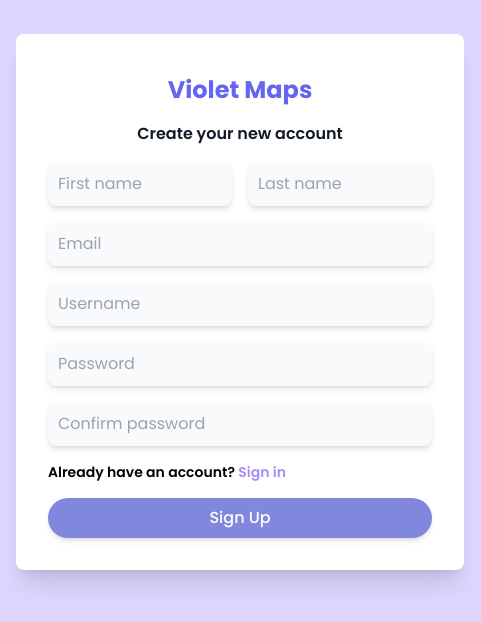
Test: register tests › improper password input - password less than 8 chars
In the field with id "firstName": x=140, y=184 left=48, top=162, right=232, bottom=206, type "Joe"
In the field with id "lastName": x=340, y=184 left=248, top=162, right=432, bottom=206, type "Shmoe"
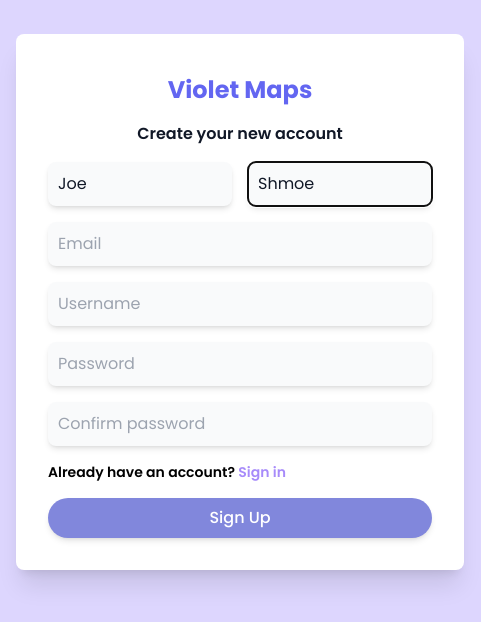
In the field with id "email": x=240, y=244 left=48, top=222, right=432, bottom=266, type "Joe.Shmoe1@email.com"
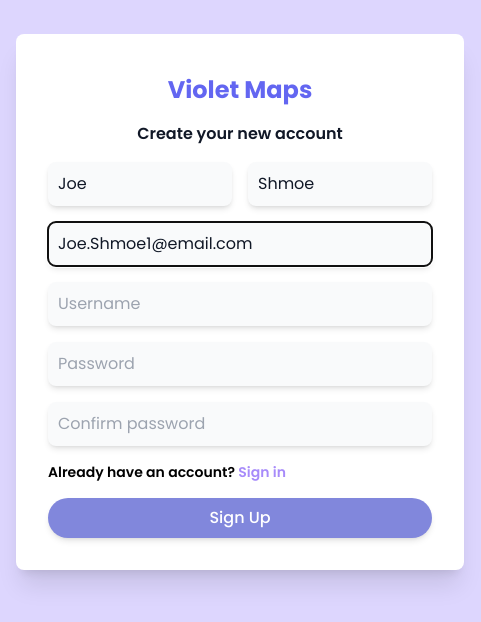
In the field with id "username": x=240, y=304 left=48, top=282, right=432, bottom=326, type "JoeShmoe-inator1"
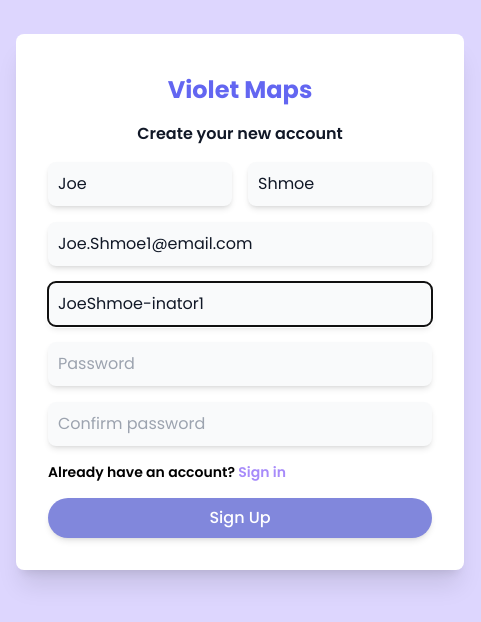
In the password field with placeholder "Password": x=240, y=364 left=48, top=342, right=432, bottom=386, type "Joe"
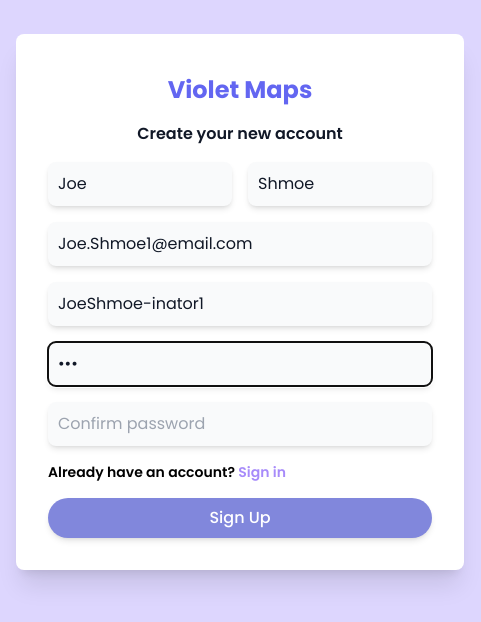
In the password field with id "confirmPassword": x=240, y=424 left=48, top=402, right=432, bottom=446, type "Joe"
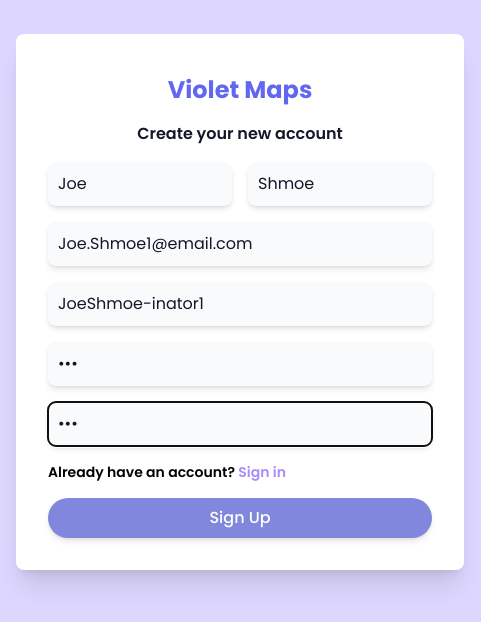
Click the button with id "registerButton": x=240, y=518 left=48, top=498, right=432, bottom=538
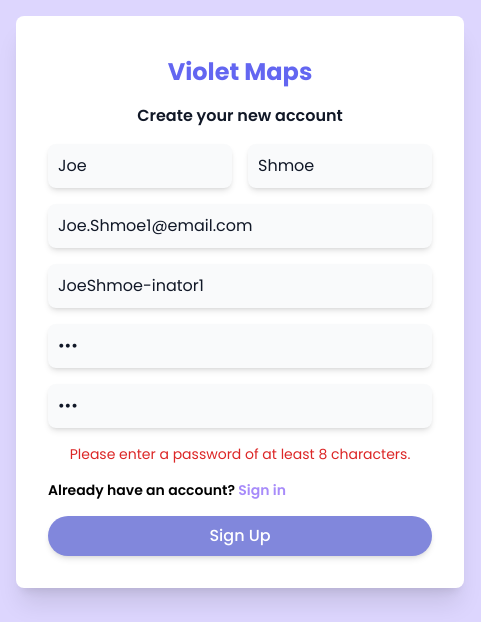
Result: the text "Please enter a password of at least 8 characters." is shown at left=48, top=444, right=432, bottom=464
